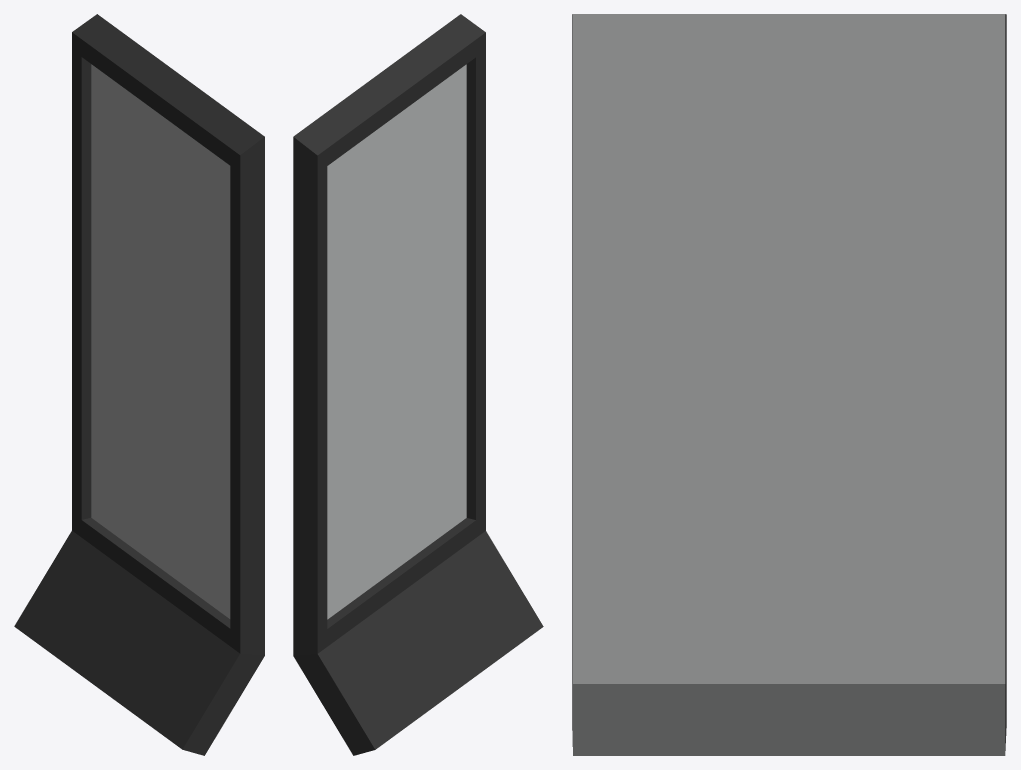
File: door.fbx
3 renders of one model, left to right at view 1: azimuth 30°, elevation 25°; view 2: azimuth 150°, elevation 25°; view 3: azimuth 270°, elevation 25°, orthographic. The views are drawn at different scales.
Visible parts, largest first — view 1: Door; view 2: Door; view 3: Door.
Part boxes in pixels (bbox=[...]): Door: bbox=[14, 14, 264, 755]; Door: bbox=[293, 14, 543, 755]; Door: bbox=[572, 14, 1006, 755].
Bounding box in the file's own units: 326 × 92.35 × 646.
